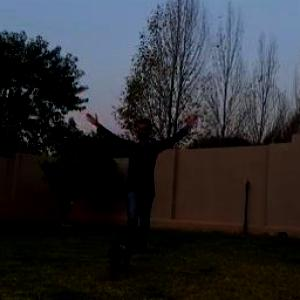takeoff: (75, 95, 214, 255)
